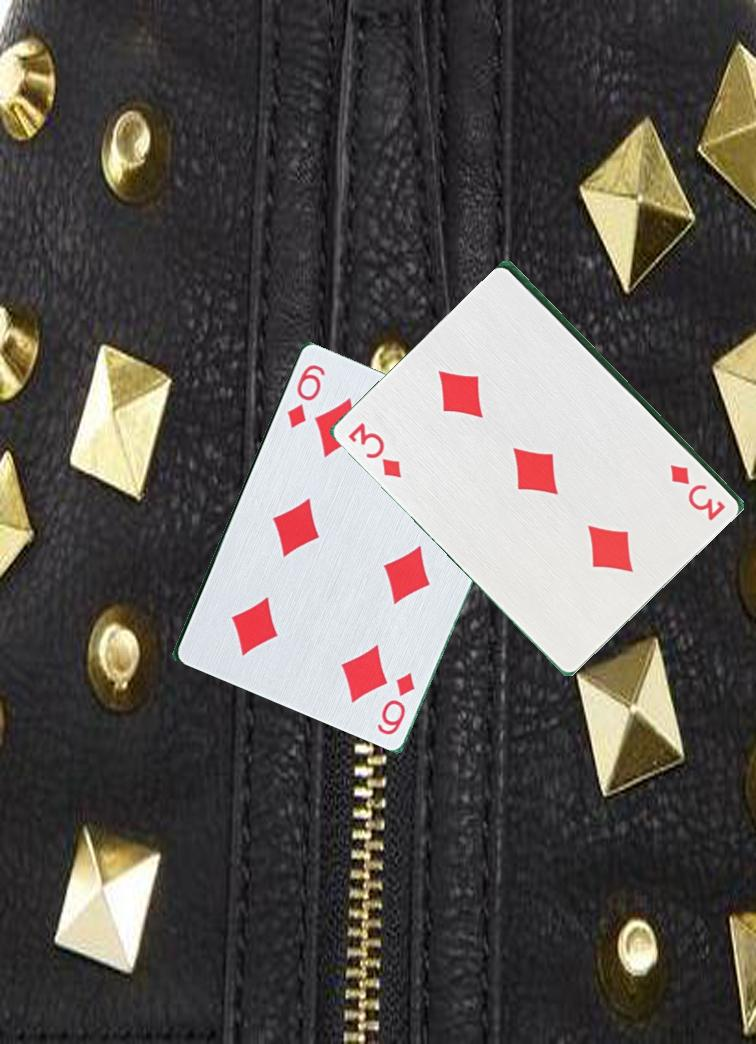3d: (667, 460, 729, 522), (345, 419, 406, 481)
6d: (373, 668, 418, 741), (282, 360, 328, 431)
